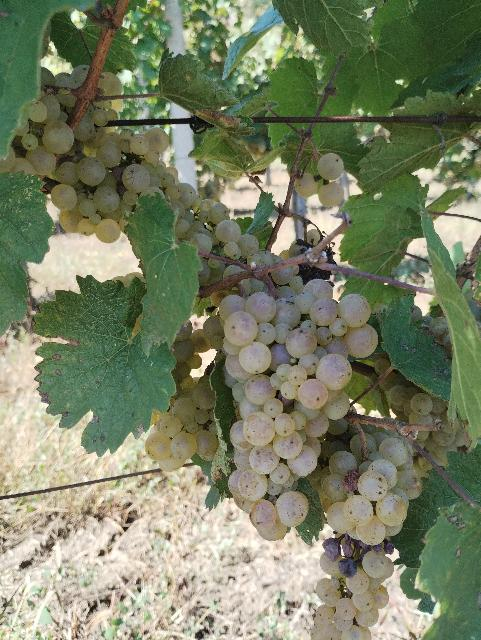grapes: (211, 280, 379, 540), (51, 129, 276, 266), (308, 426, 431, 640)
